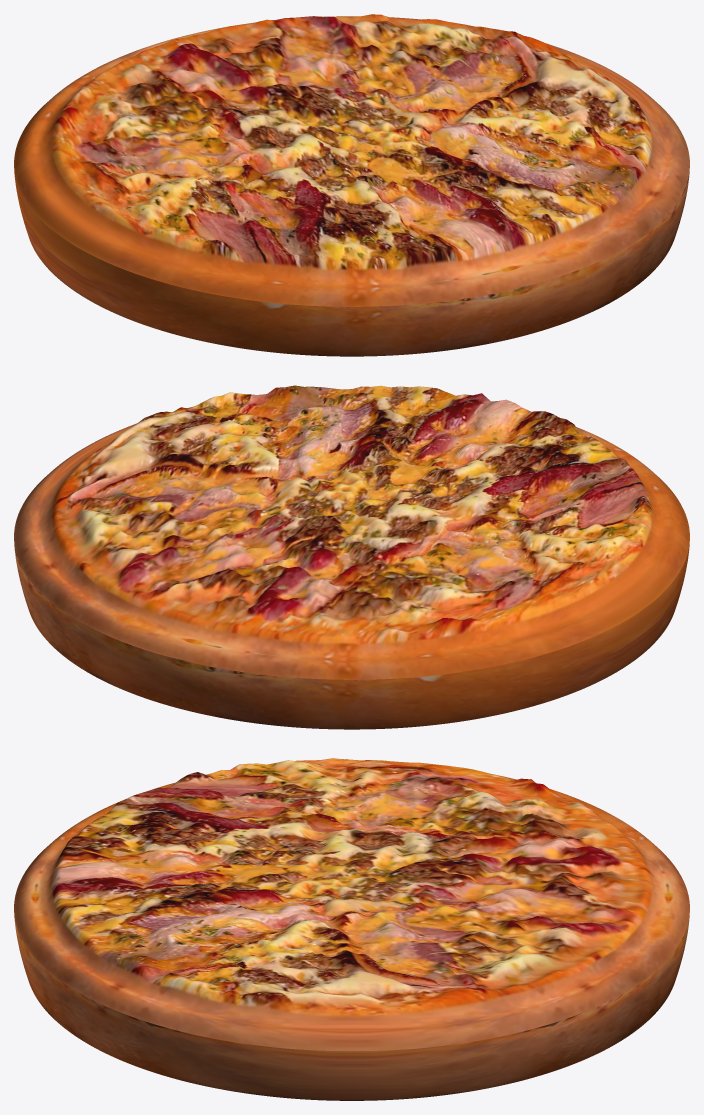
File: cheeseburguer.glb
3 views of the same model, one above another, from view 1: azimuth 30°, elevation 25°; view 2: azimuth 150°, elevation 25°; view 3: azimuth 270°, elevation 25° (orthographic).
Parts seen in each view (by area): view 1: Cheeseburguer; view 2: Cheeseburguer; view 3: Cheeseburguer.
Part boxes in pixels (x1,y1,x2,y2): Cheeseburguer: (14, 14, 689, 356); Cheeseburguer: (14, 385, 689, 729); Cheeseburguer: (14, 758, 689, 1100).
Size of the model in its own units: 0.36 by 0.0549 by 0.36.
Materials: 2 (2 with a texture image).
